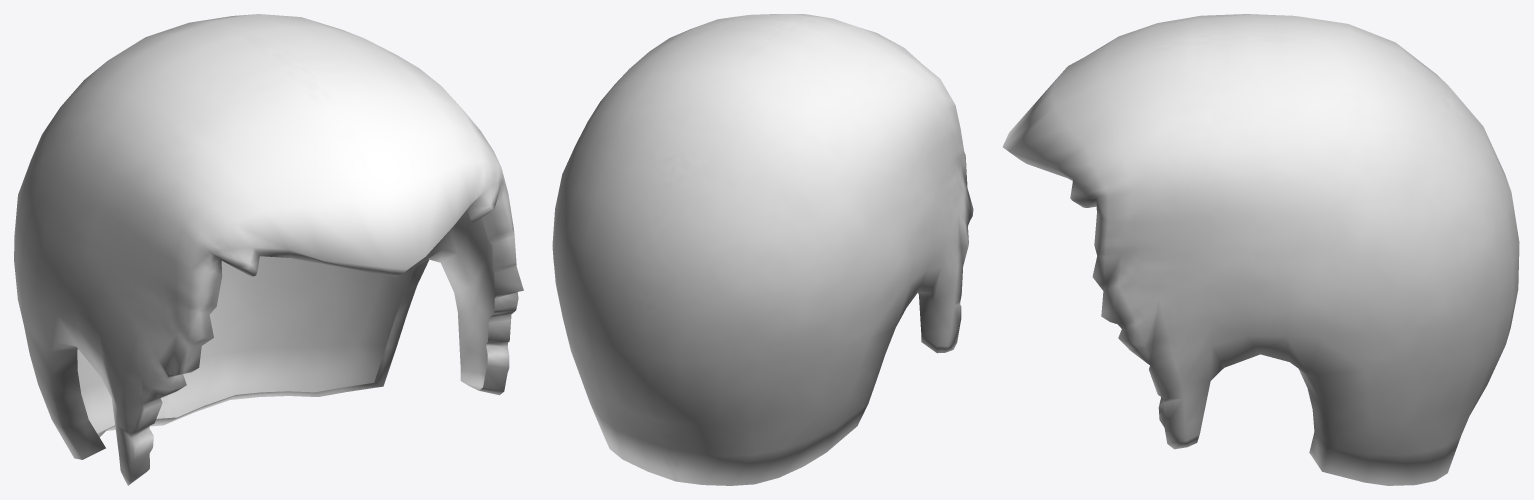
The model's file is hair_buzzed.glb.
3 views of the same model, side by side, from view 1: azimuth 30°, elevation 25°; view 2: azimuth 150°, elevation 25°; view 3: azimuth 270°, elevation 25° (orthographic). The views are drawn at different scales.
Visible parts, largest first — view 1: Hair_Buzzed; view 2: Hair_Buzzed; view 3: Hair_Buzzed.
Part boxes in pixels (bbox=[...]): Hair_Buzzed: bbox=[14, 14, 523, 485]; Hair_Buzzed: bbox=[552, 14, 973, 485]; Hair_Buzzed: bbox=[1002, 14, 1519, 485].
Bounding box in the file's own units: 0.1546 × 0.1694 × 0.1909.
Materials: 1 (1 with a texture image).
